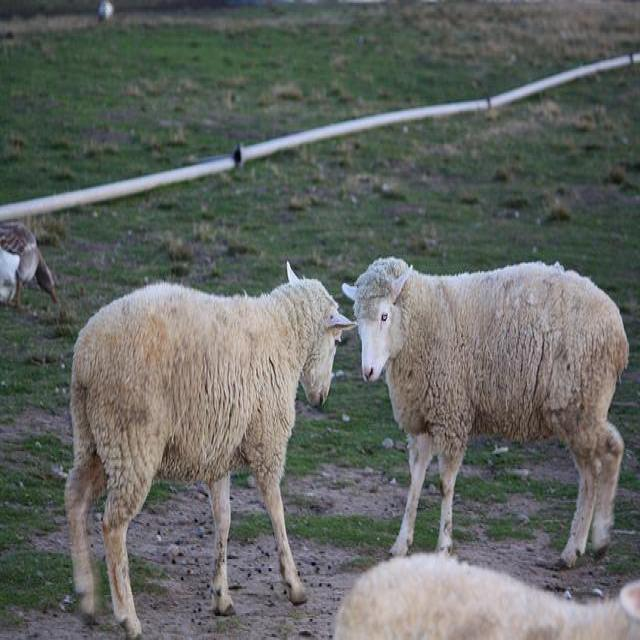Sheep: (63, 266, 354, 632), (345, 260, 628, 570), (334, 554, 639, 632)
